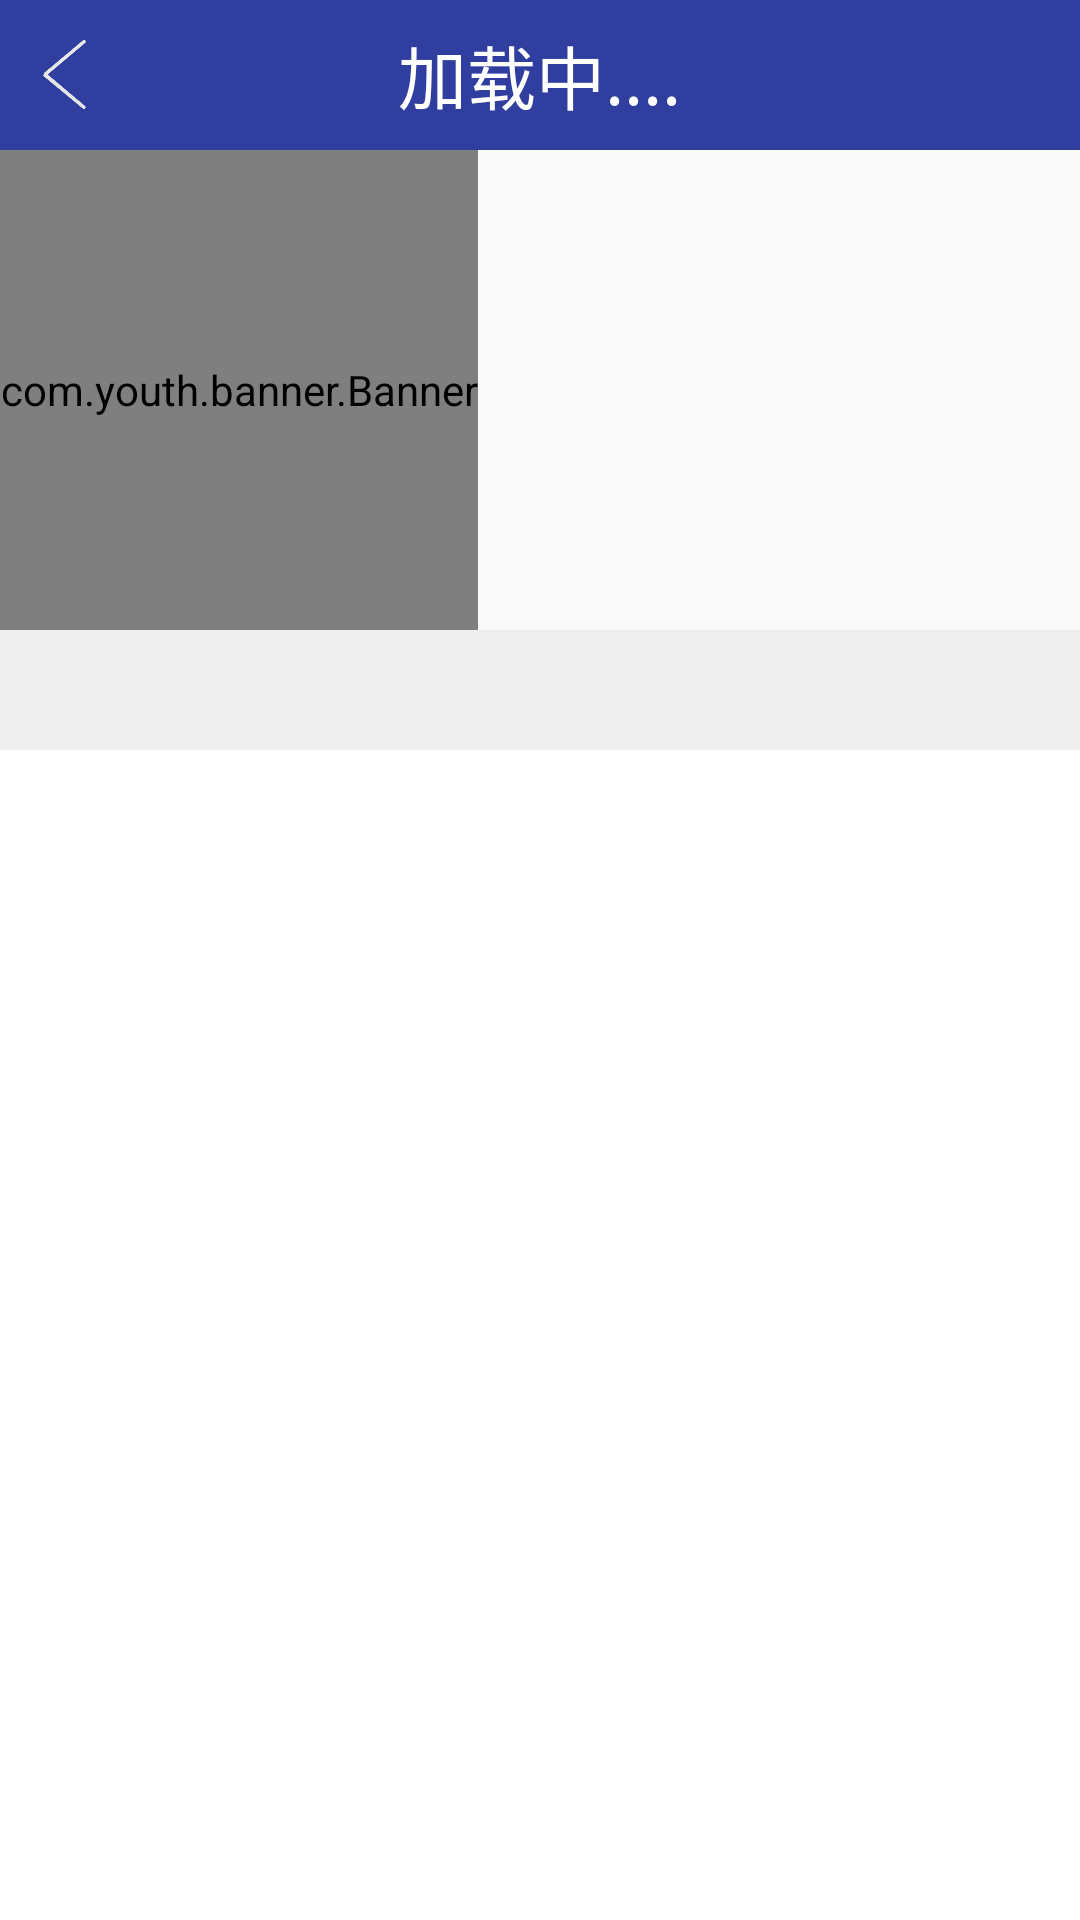

Named icons in this screenshot (1080*1920) and their centers, [x,y]:
back: [64,74]
